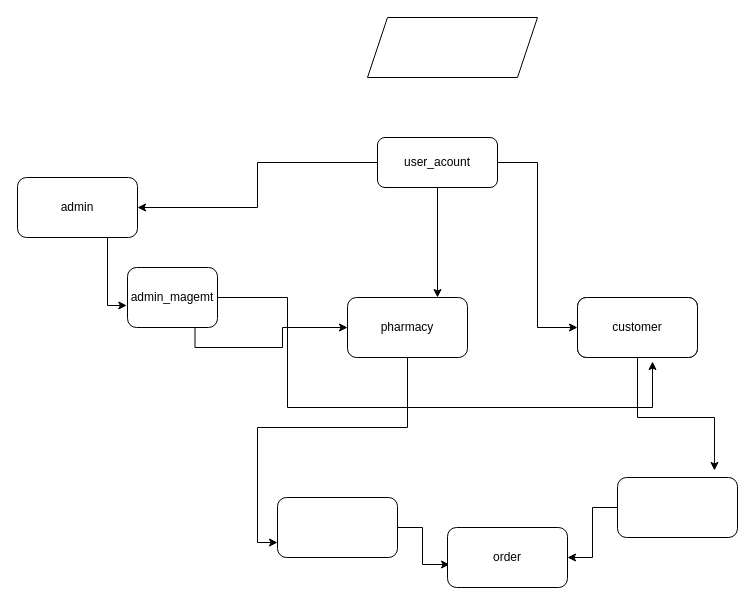
Some shapes in this 755 by 605 pixel diagram are drawn without their labels. Here are the shapes that lost their labels. From the top down, the centre of each, then its label:
pixel 452 47: Medicine_order_ERD
pixel 337 527: pharmacy_order_list
pixel 677 507: cutomer_order_list
